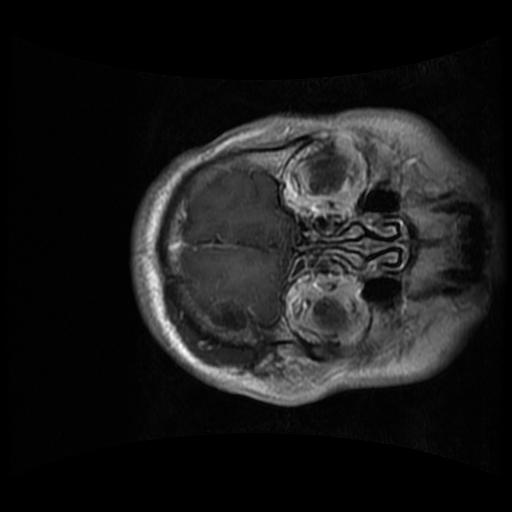glioma: (206, 299, 247, 333)
